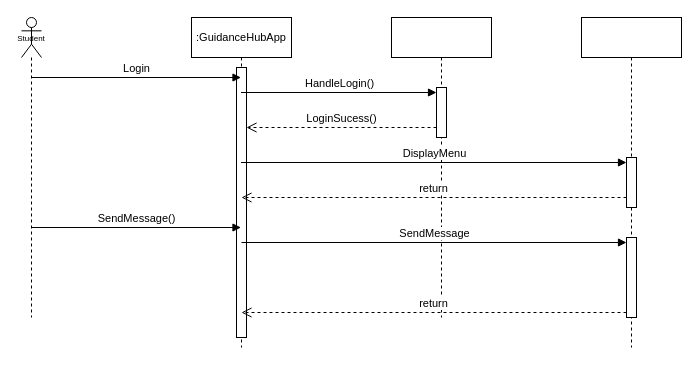
The diagram is 699 pixels wide and 365 high, and some of its shapes have lost their labels. Here are the shapes that lost their labels. From the top down, the centre of each, then its label:
At [441,167]: ":Authenticator".
At [631,182]: ":Student".
